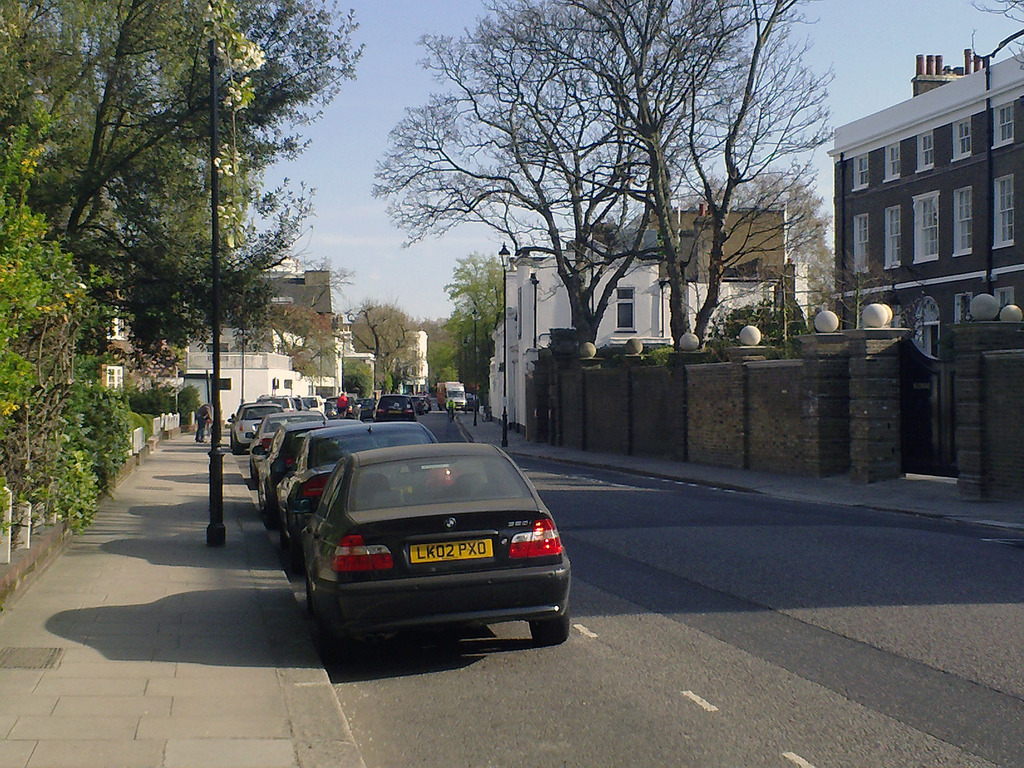license plate: (408, 545, 491, 566)
